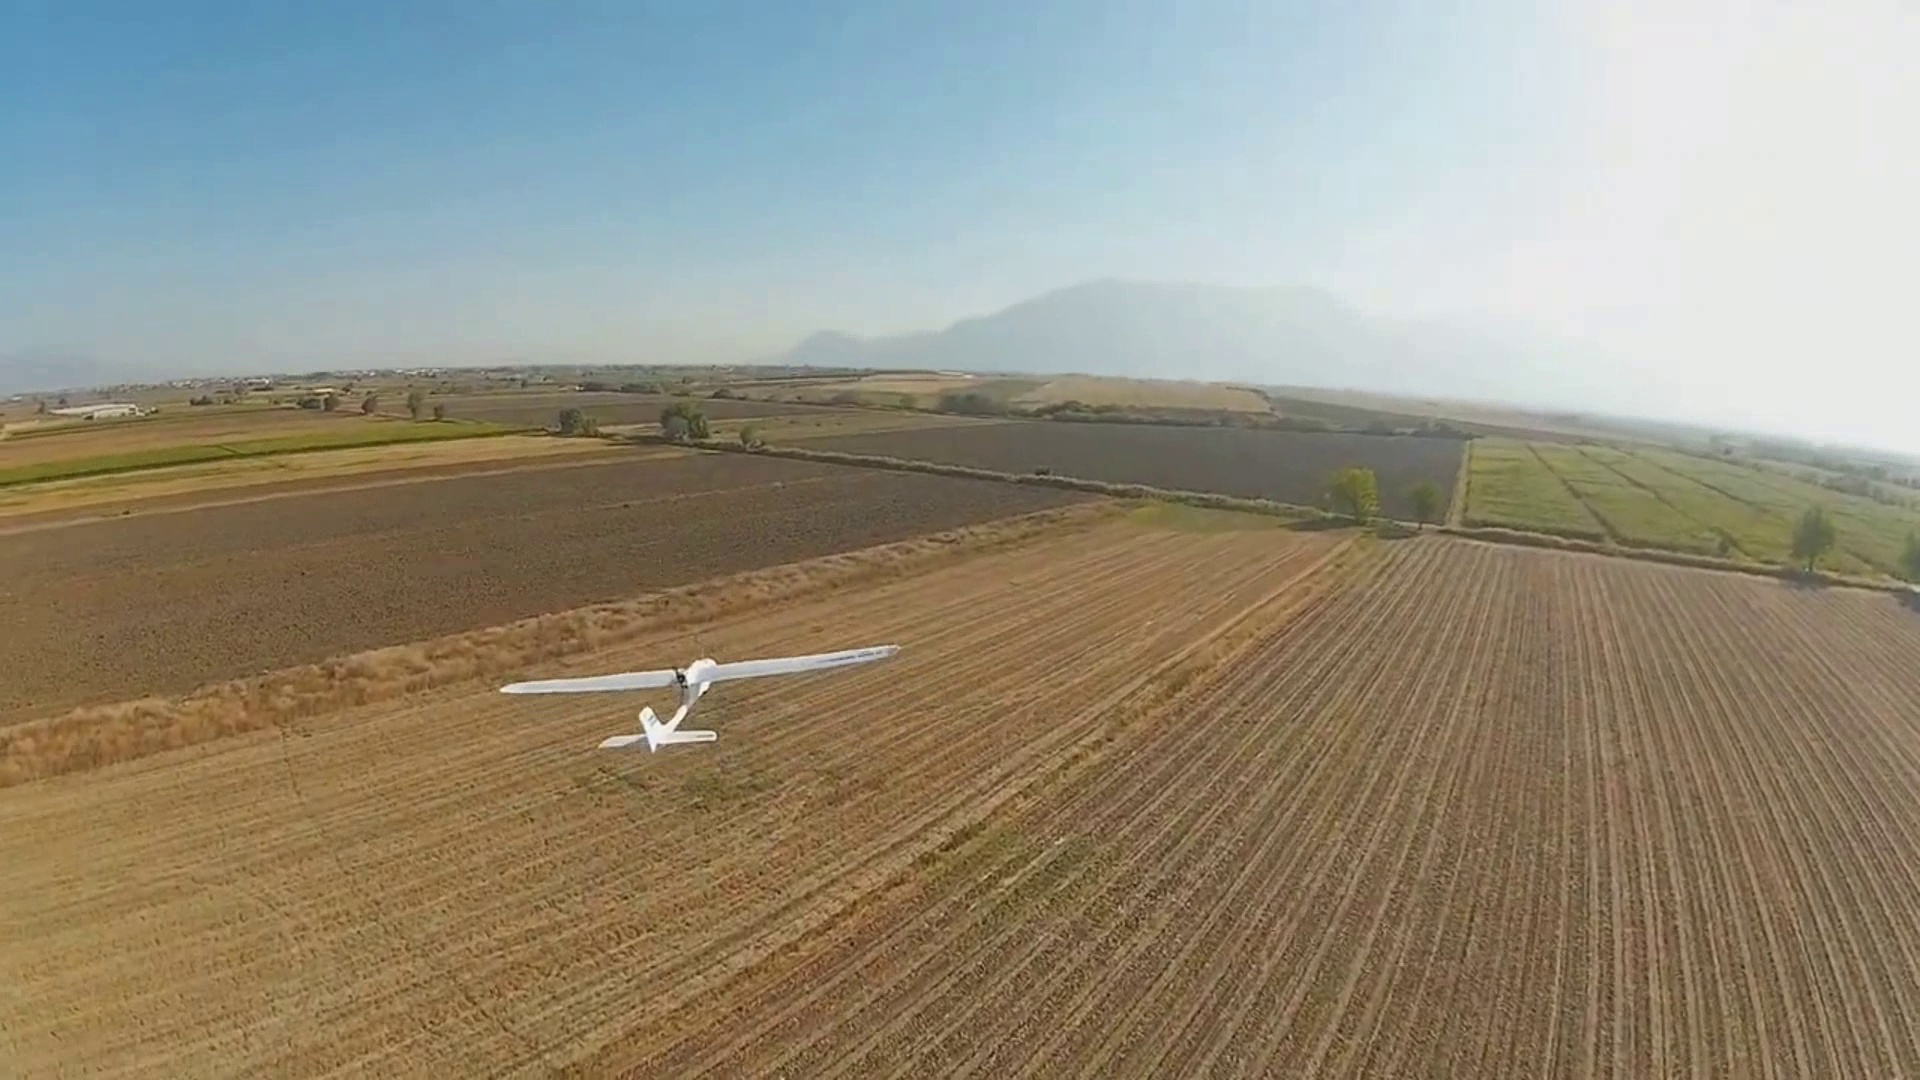airplane: (496, 647, 899, 756)
